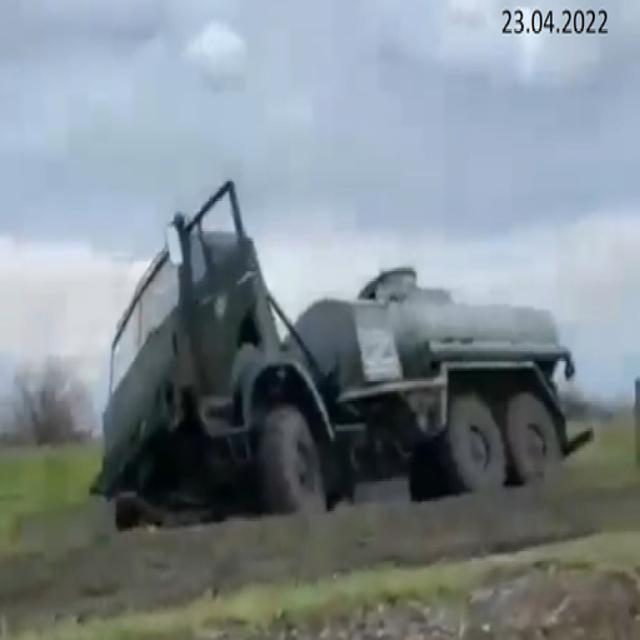TRUCK: (91, 173, 589, 522)
